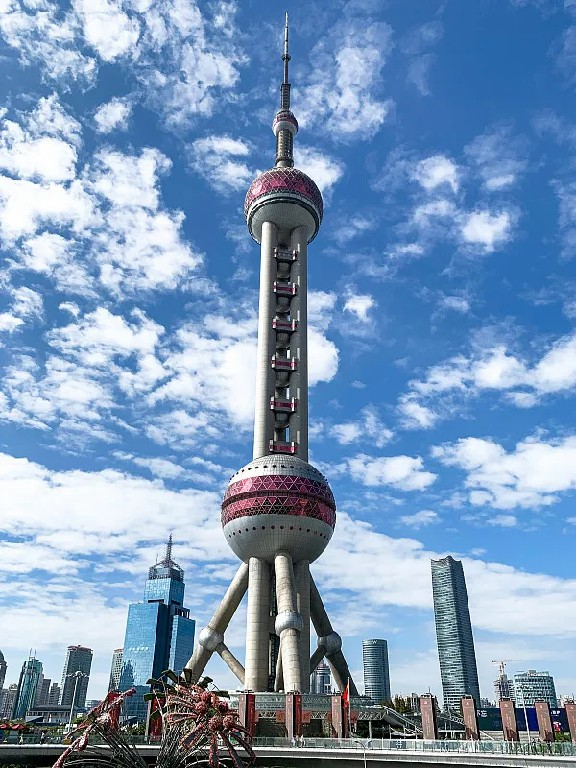Oriental: (186, 11, 359, 697)
